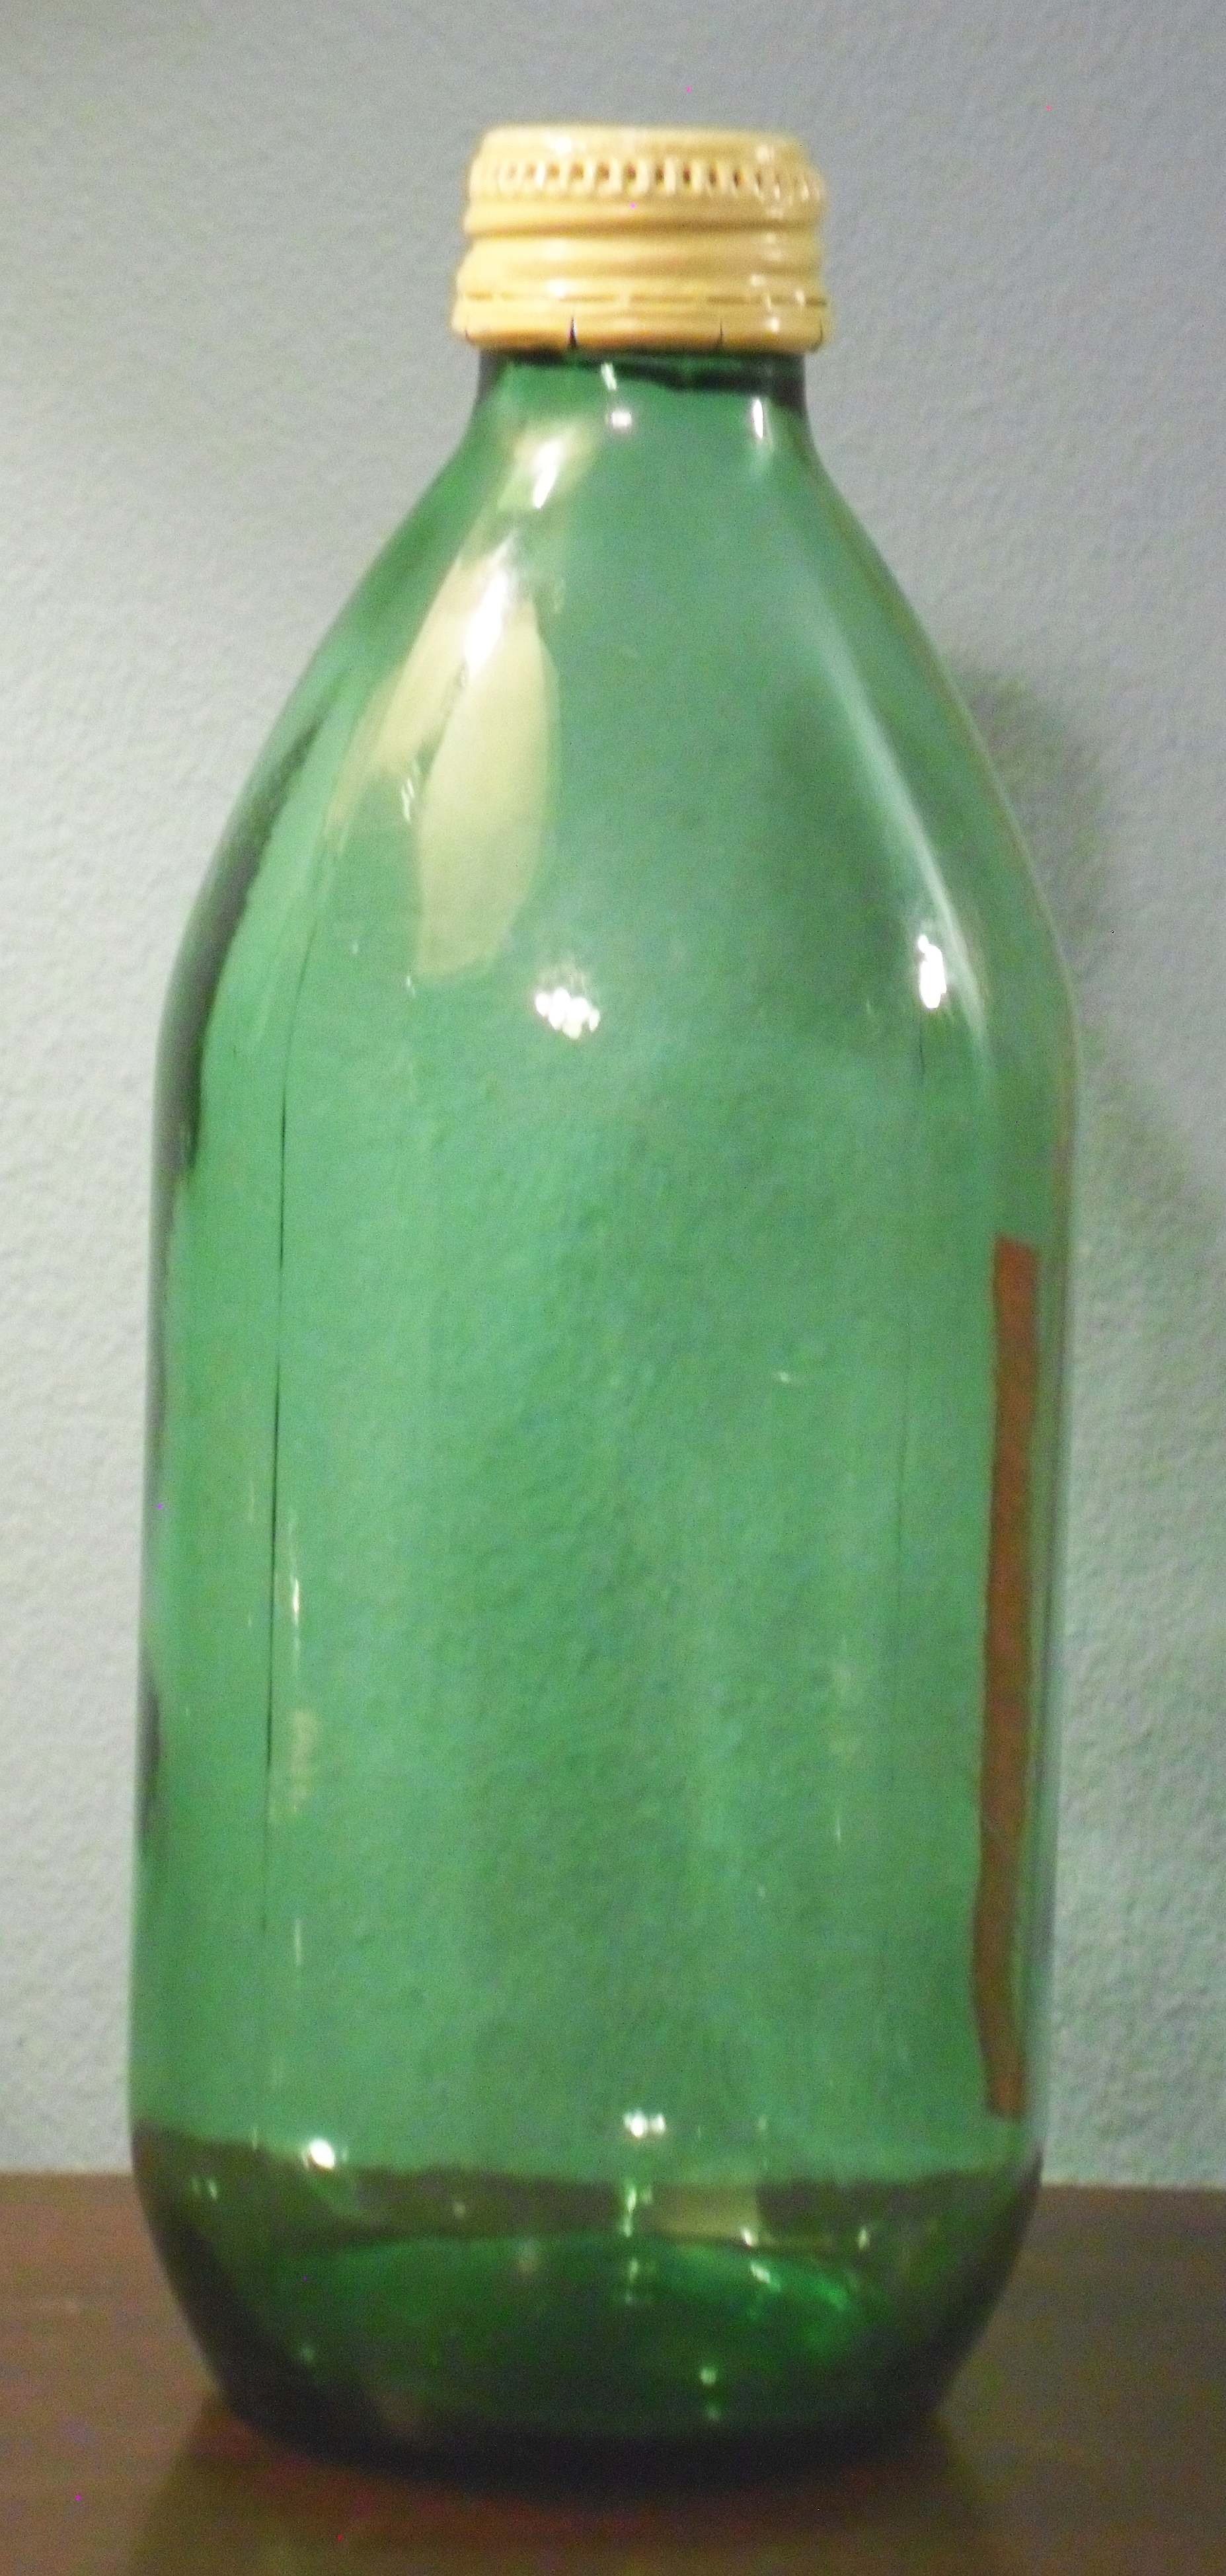container: (71, 92, 1104, 2532)
